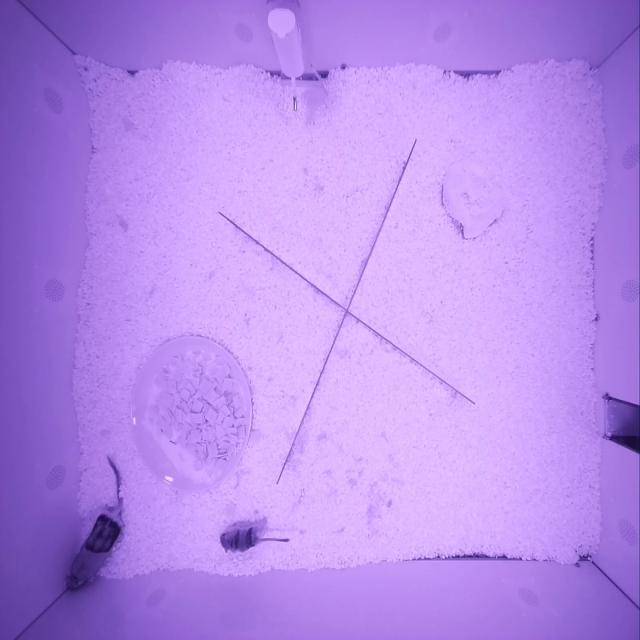adult_back: (65, 510, 122, 589)
pup_h_stripe: (220, 526, 261, 553)
